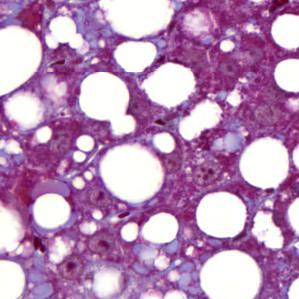steatosis: (100, 140, 168, 207), (191, 186, 252, 238)
